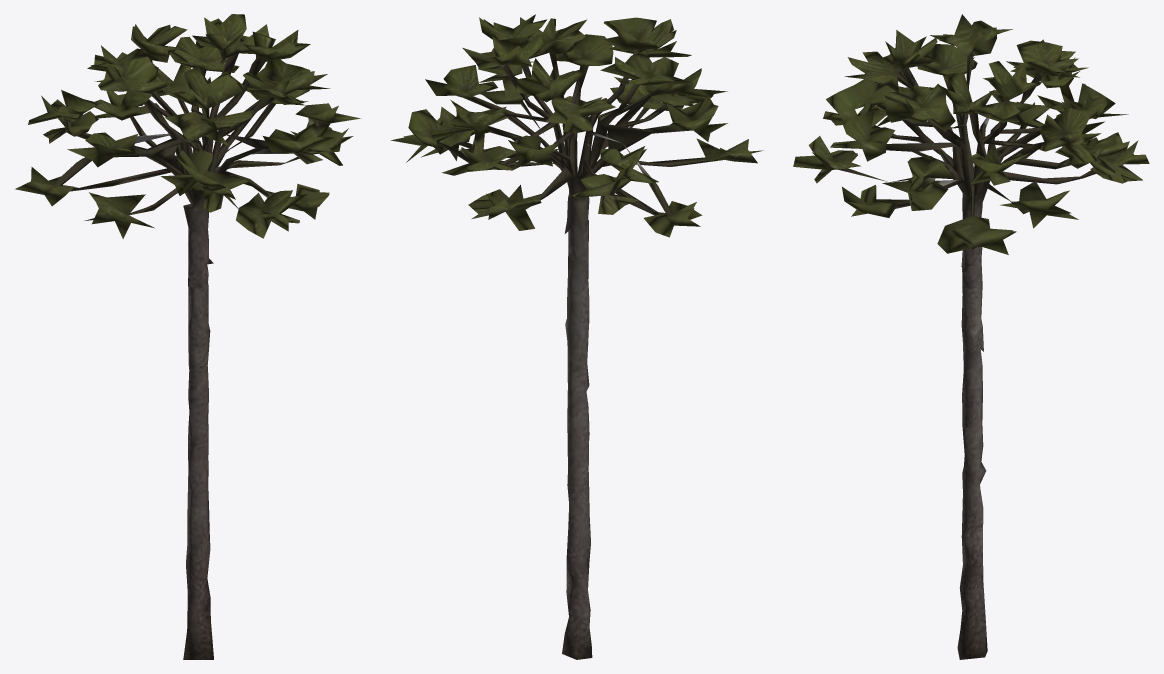
Rendered from tree1.glb.
3 renders of one model, left to right at view 1: azimuth 30°, elevation 25°; view 2: azimuth 150°, elevation 25°; view 3: azimuth 270°, elevation 25°, orthographic.
Visible parts, largest first — view 1: tripo_node_5472f171-bf8c-4234-b742-f2fe2d2fb5e8; view 2: tripo_node_5472f171-bf8c-4234-b742-f2fe2d2fb5e8; view 3: tripo_node_5472f171-bf8c-4234-b742-f2fe2d2fb5e8.
Boxes of the visible parts, bbox=[...] form: tripo_node_5472f171-bf8c-4234-b742-f2fe2d2fb5e8: bbox=[15, 14, 360, 659]; tripo_node_5472f171-bf8c-4234-b742-f2fe2d2fb5e8: bbox=[391, 14, 763, 659]; tripo_node_5472f171-bf8c-4234-b742-f2fe2d2fb5e8: bbox=[793, 14, 1149, 659].
Bounding box in the file's own units: 0.5241 × 1 × 0.5294.
1 material, 1 textured.
